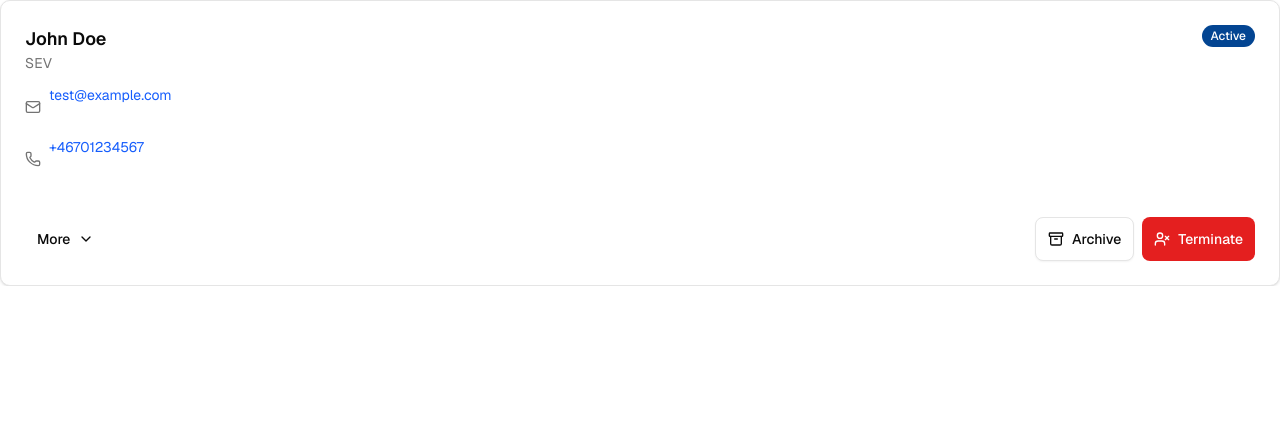
Test: EmployeeCard - Performance Tests › Task 5: Performance and Animation Tests › should complete card expansion animation within 300ms
The image size is (1280, 431).
Click the button with aria-label "Expand details" at point(66, 239), box [25,217,106,261]
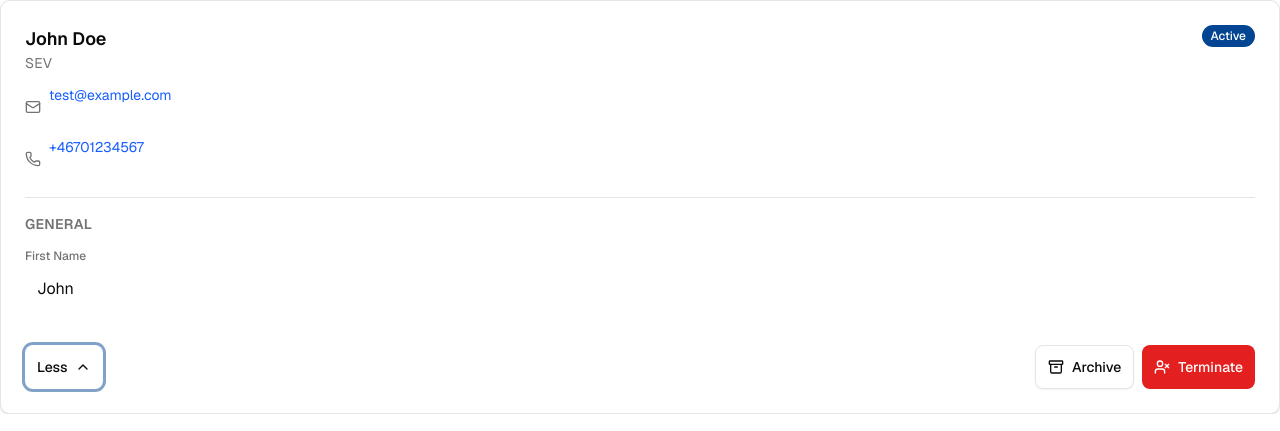
Expected: the button with aria-label "Collapse details" is shown, [25,345,104,389]
